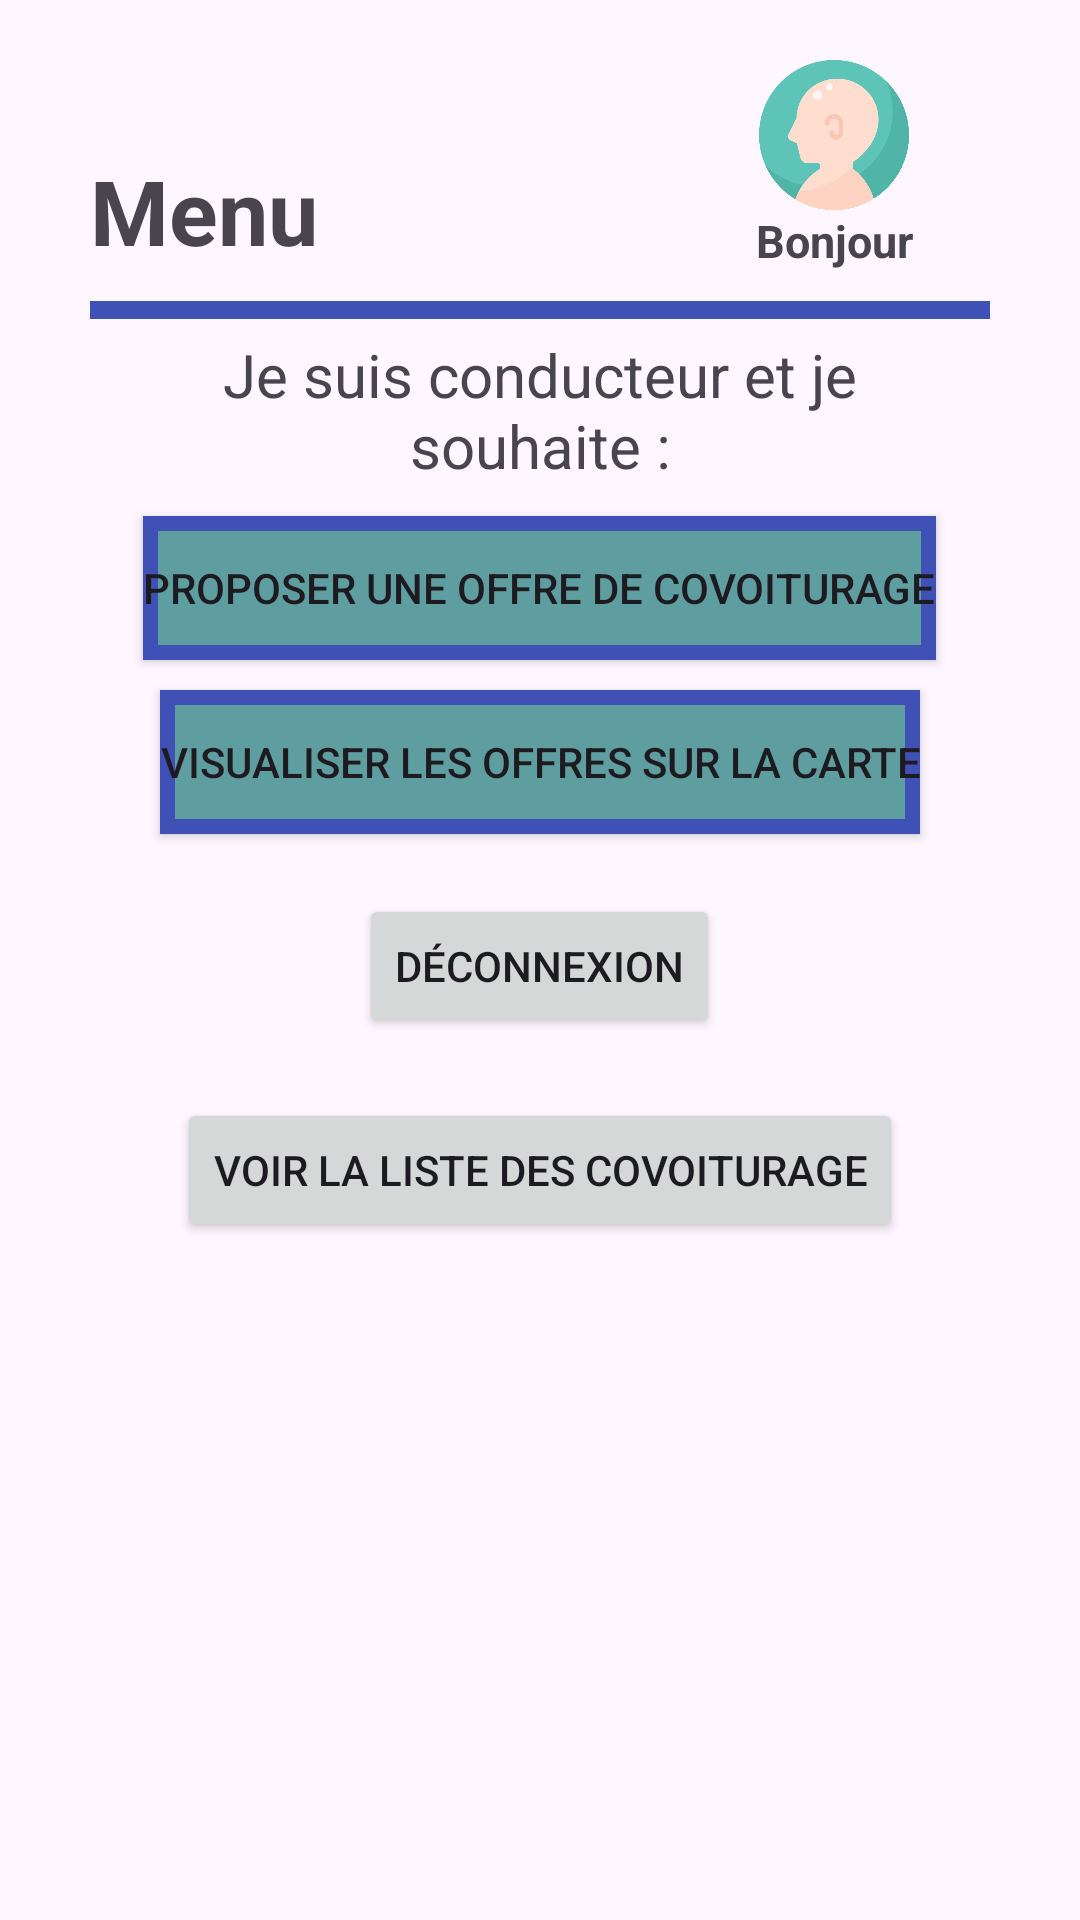

Icon click points for this 1080w x 1920h phone screenshot, format [x,y]:
profile: [834,135]
